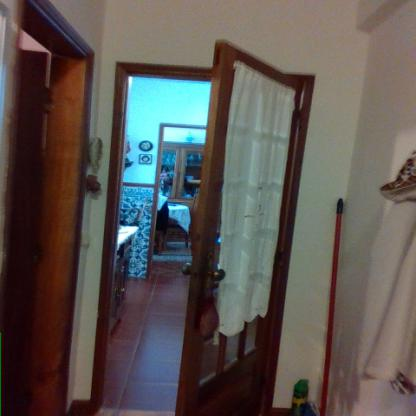semi: (90, 36, 324, 416)
